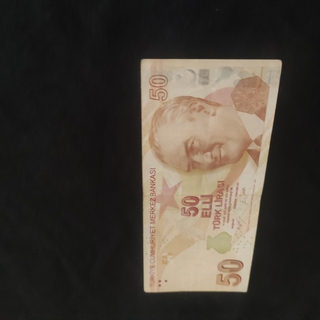50TLFront: (140, 58, 283, 292)
